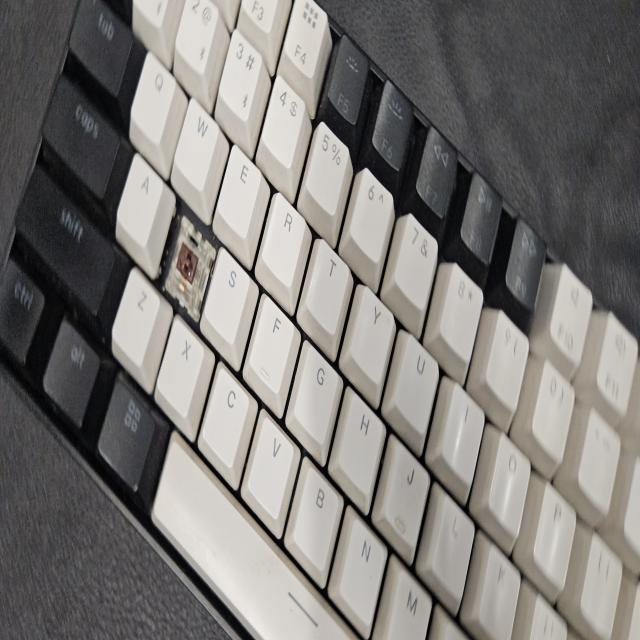C: (172, 228, 205, 304)
